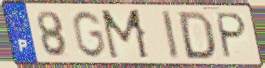8: (35, 10, 69, 58)
D: (177, 10, 217, 61)
G: (70, 9, 108, 60)
I: (158, 9, 181, 61)
M: (99, 8, 152, 61)
P: (215, 11, 249, 60)
